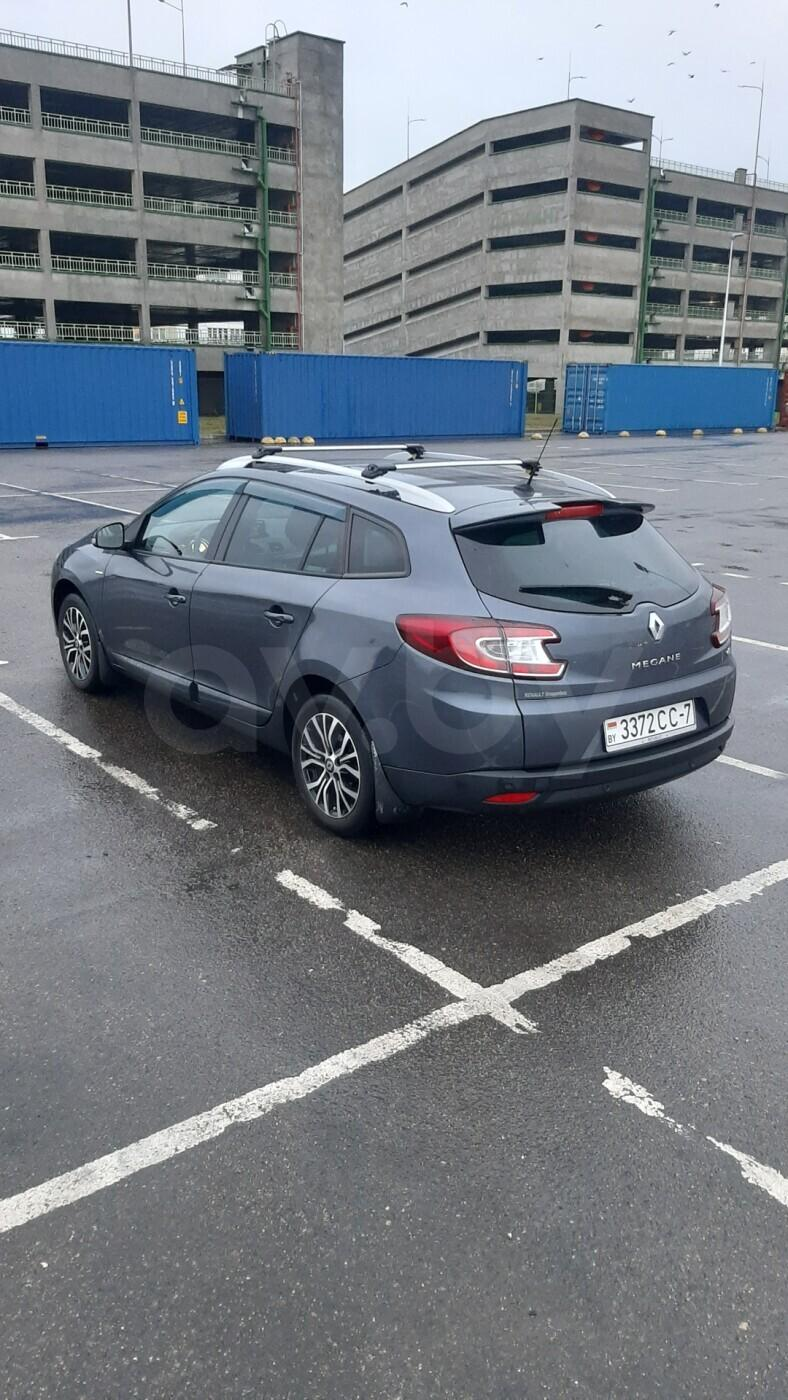Megane_2014-2016: (50, 448, 752, 854)
